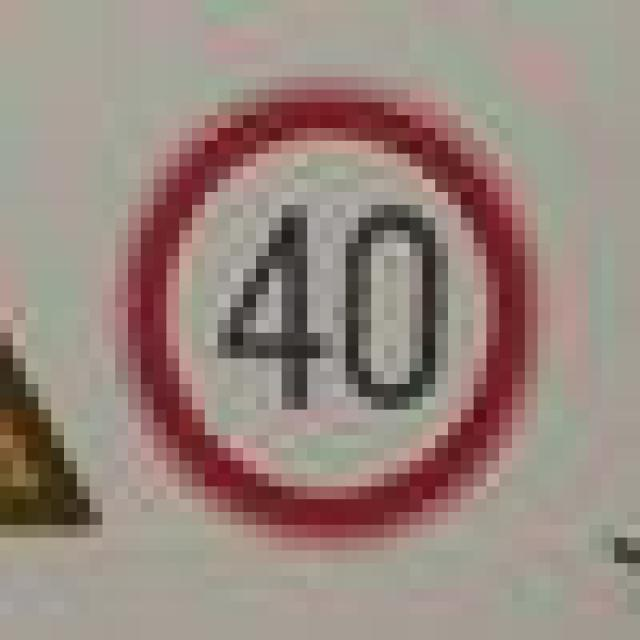falling_rocks: (115, 64, 525, 538)
